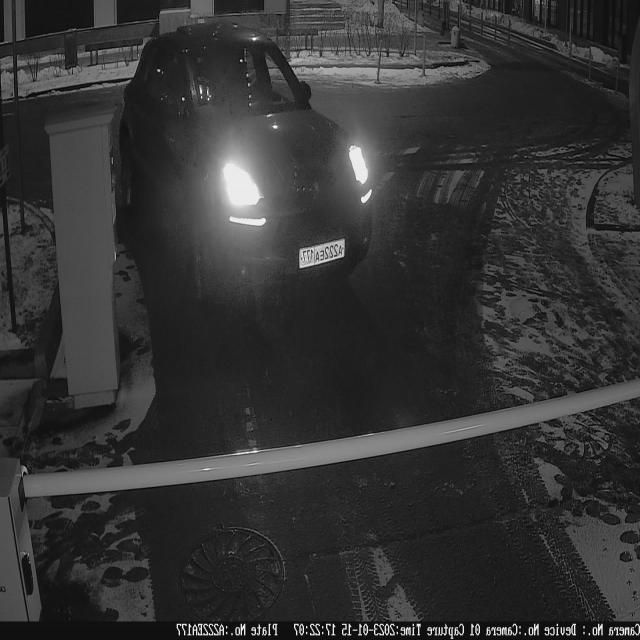car-plate-numbers: (299, 236, 348, 273)
